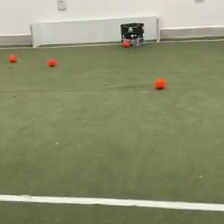ball: (153, 77, 166, 91), (47, 57, 57, 67), (8, 53, 17, 63), (121, 38, 130, 48)
goal: (28, 15, 160, 48)
robot: (119, 21, 146, 48)
